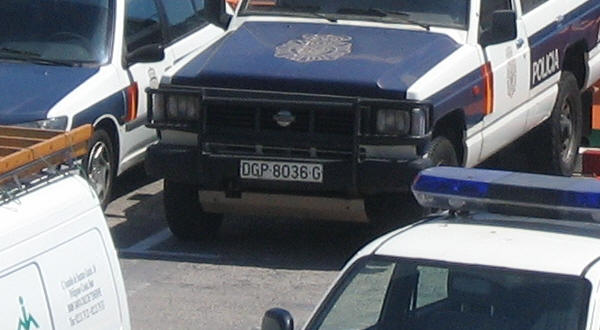license_plate: (238, 161, 324, 182)
